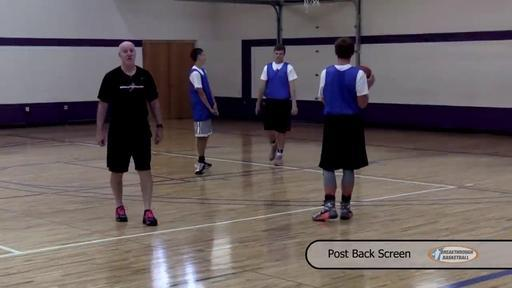ball: (354, 65, 372, 80)
human: (97, 39, 163, 227), (312, 36, 370, 222), (255, 45, 299, 167), (188, 48, 220, 176)
rim: (302, 0, 320, 15)
